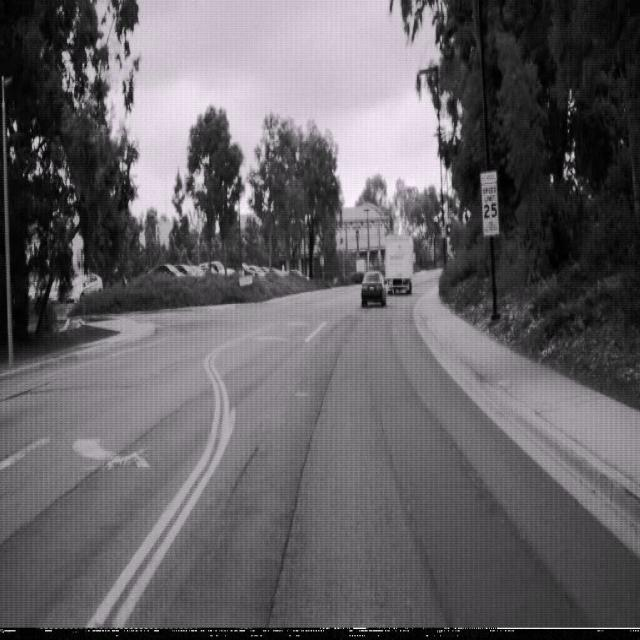speedLimit25: (480, 170, 500, 236)
